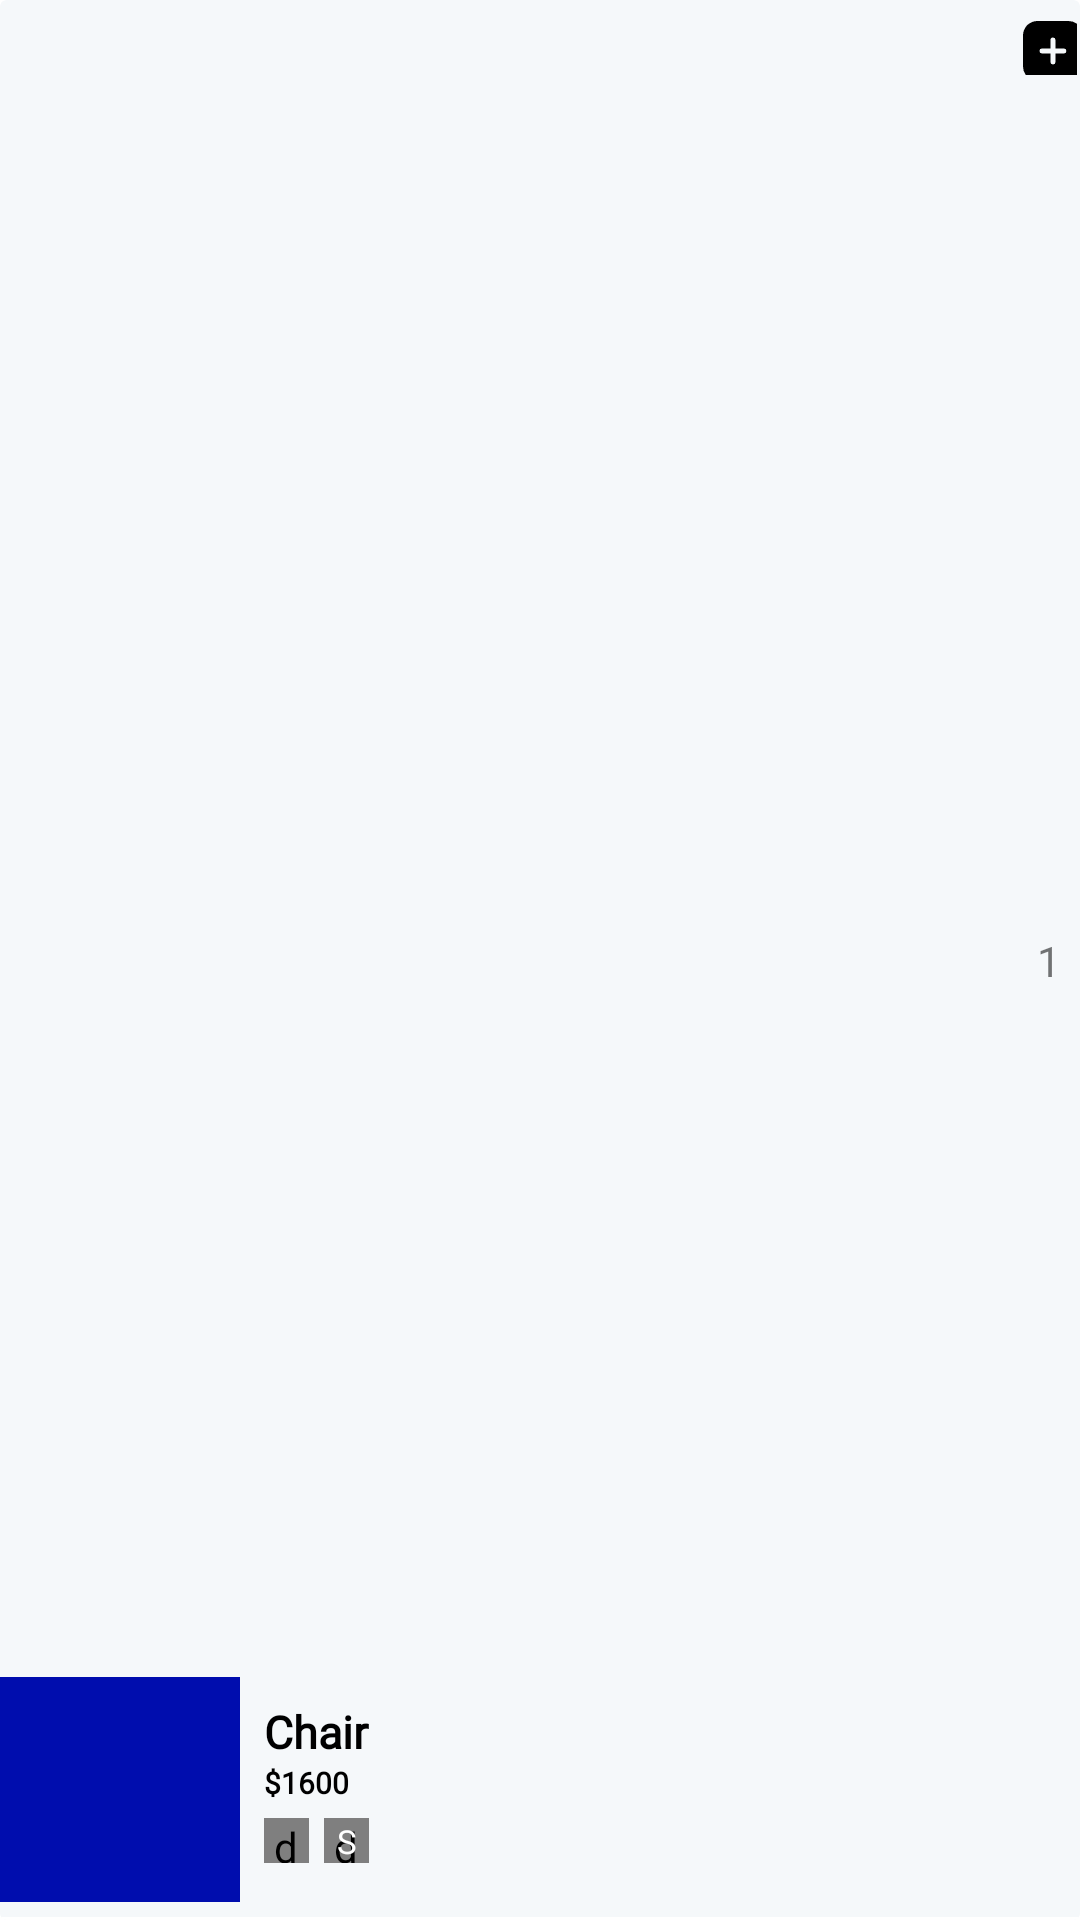

Icons on this 1080w x 1920h Android screen, each with its box as bbox(x1, y1, x2, y2):
plus: bbox(1023, 21, 1077, 75)
